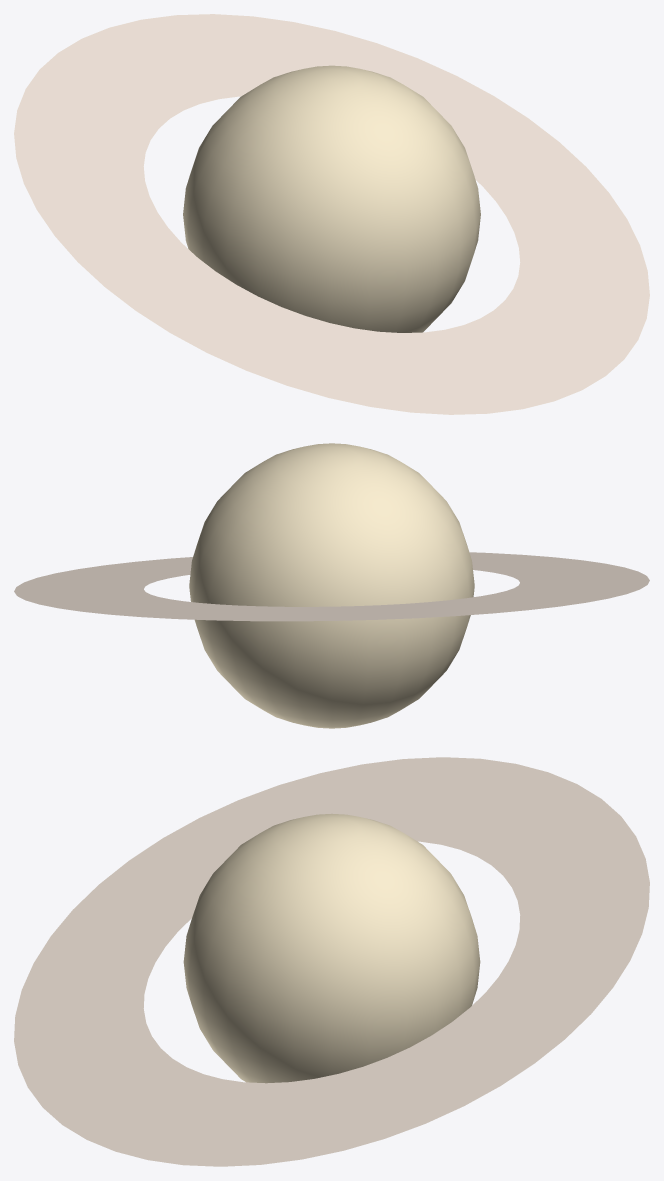
Rendered from saturn.glb.
The picture shows the model from 3 angles, top to bottom: view 1: azimuth 30°, elevation 25°; view 2: azimuth 150°, elevation 25°; view 3: azimuth 270°, elevation 25°; orthographic projection. The views are drawn at different scales.
Parts seen in each view (by area): view 1: ring_node, body_node; view 2: body_node, ring_node; view 3: ring_node, body_node.
Part boxes in pixels (x1=…): ring_node: x1=14, y1=14, x2=649, y2=414; body_node: x1=183, y1=65, x2=480, y2=332; body_node: x1=189, y1=443, x2=474, y2=728; ring_node: x1=14, y1=552, x2=649, y2=621; ring_node: x1=14, y1=757, x2=649, y2=1166; body_node: x1=183, y1=813, x2=480, y2=1083.
Size of the model in its own units: 4.82 by 2.2 by 4.72.
